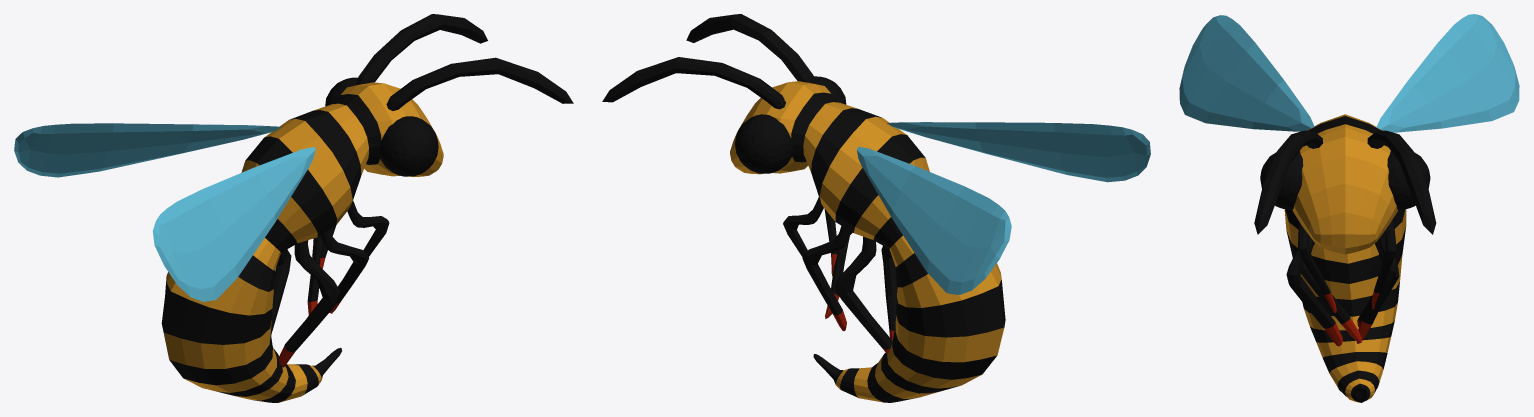
File: Wasp.obj
3 views of the same model, side by side, from view 1: azimuth 30°, elevation 25°; view 2: azimuth 150°, elevation 25°; view 3: azimuth 270°, elevation 25° (orthographic). The views are drawn at different scales.
Parts seen in each view (by area): view 1: Wasp; view 2: Wasp; view 3: Wasp.
Part boxes in pixels (x1,y1,x2,y2): Wasp: [14, 14, 573, 402]; Wasp: [602, 14, 1150, 402]; Wasp: [1179, 14, 1519, 402].
Bounding box in the file's own units: 3.86 × 2.67 × 2.49.
